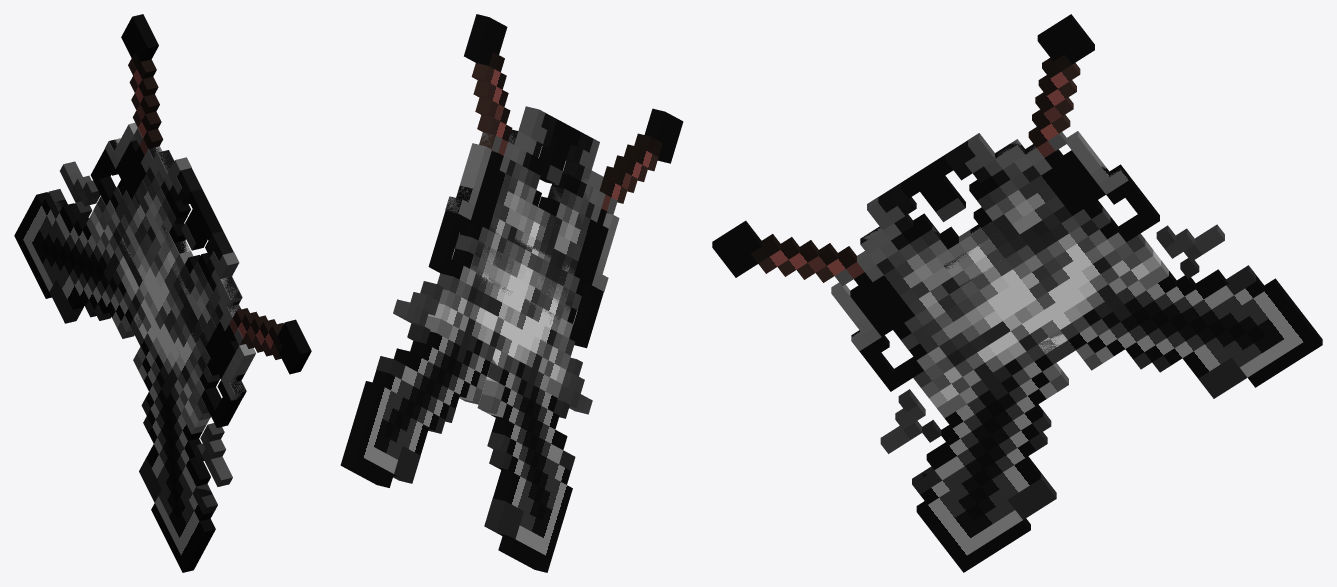
Rendered from awakened_lichblade@ochs.glb.
3 renders of one model, left to right at view 1: azimuth 30°, elevation 25°; view 2: azimuth 150°, elevation 25°; view 3: azimuth 270°, elevation 25°, orthographic. The views are drawn at different scales.
Visible parts, largest first — view 1: off__Tool_L, main__Tool_R; view 2: off__Tool_L, main__Tool_R; view 3: main__Tool_R, off__Tool_L.
Boxes of the visible parts, x1,y1,x2,y2 form: off__Tool_L: (90,14,239,572); main__Tool_R: (14,157,311,427); off__Tool_L: (428,14,599,572); main__Tool_R: (340,106,683,487); main__Tool_R: (712,133,1322,398); off__Tool_L: (867,14,1159,572).
Bounding box in the file's own units: 0.0563 × 2.37 × 2.37.
Materials: 1 (1 with a texture image).
